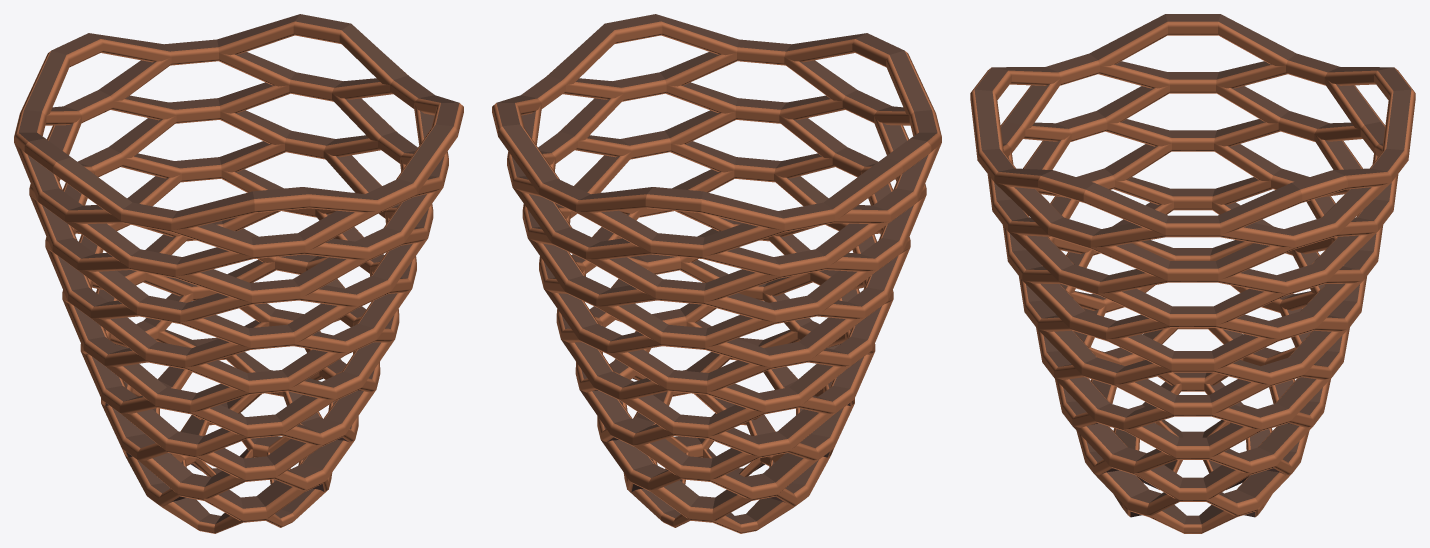
Rendered from detail.glb.
3 views of the same model, side by side, from view 1: azimuth 30°, elevation 25°; view 2: azimuth 150°, elevation 25°; view 3: azimuth 270°, elevation 25° (orthographic).
Parts seen in each view (by area): view 1: vessel-new-york; view 2: vessel-new-york; view 3: vessel-new-york.
Boxes of the visible parts, x1=… form: vessel-new-york: x1=14, y1=14, x2=463, y2=533; vessel-new-york: x1=492, y1=14, x2=941, y2=533; vessel-new-york: x1=970, y1=14, x2=1415, y2=533.
Size of the model in its own units: 46.08 by 45.7 by 46.36.
